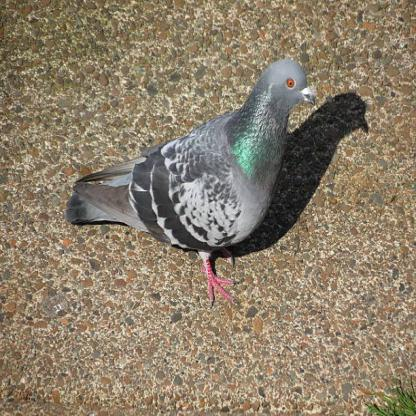Flying Rat: (67, 56, 312, 314)
